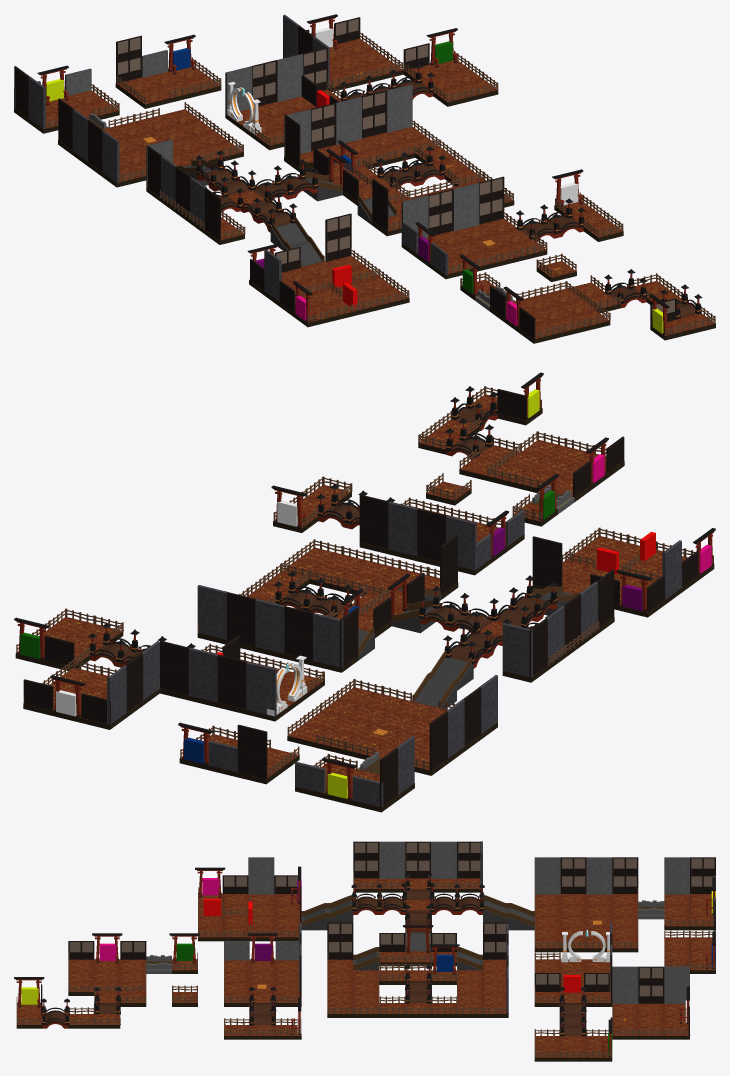
Rendered from Mask_LevelAutomn.gltf.
3 views of the same model, one above another, from view 1: azimuth 30°, elevation 25°; view 2: azimuth 150°, elevation 25°; view 3: azimuth 270°, elevation 25° (orthographic). The views are drawn at different scales.
Parts seen in each view (by area): view 1: portal_level, stairs_hill5, stairs_hill7, wall_base22, wall_base24, wall_base16, wall_base30, wall_base43, wall_wood12, wall_base14, wall_base45, wall_wood49 (+22 smaller); view 2: stairs_hill10, stairs_hill11, portal_level, stairs_hill7, wall_base28, wall_base43, wall_wood12, wall_base41, wall_wood62, wall_wood49, wall_base16, wall_base24 (+26 smaller); view 3: portal_level, stairs_hill11, stairs_hill6, stairs_hill5, stairs_hill10, stairs_hill8, wall_base4, wall_base2, wall_base36, wall_base38, wall_wood13, wall_base32 (+54 smaller).
Part boxes in pixels (x1=…): portal_level: x1=227, y1=81, x2=261, y2=134; stairs_hill5: x1=270, y1=217, x2=309, y2=250; stairs_hill7: x1=303, y1=171, x2=342, y2=201; wall_base22: x1=401, y1=195, x2=428, y2=222; wall_base24: x1=453, y1=183, x2=479, y2=210; wall_base16: x1=386, y1=84, x2=412, y2=112; wall_base30: x1=277, y1=54, x2=303, y2=81; wall_base43: x1=65, y1=68, x2=91, y2=95; wall_wood12: x1=325, y1=213, x2=351, y2=240; wall_base14: x1=336, y1=97, x2=361, y2=124; wall_base45: x1=142, y1=50, x2=167, y2=77; wall_wood49: x1=334, y1=17, x2=360, y2=43; stairs_hill10: x1=429, y1=651, x2=473, y2=690; stairs_hill11: x1=412, y1=673, x2=456, y2=709; portal_level: x1=267, y1=655, x2=307, y2=716; stairs_hill7: x1=391, y1=599, x2=435, y2=633; wall_base28: x1=246, y1=661, x2=276, y2=693; wall_base43: x1=295, y1=761, x2=325, y2=793; wall_wood12: x1=532, y1=536, x2=562, y2=567; wall_base41: x1=352, y1=776, x2=383, y2=807; wall_wood62: x1=237, y1=724, x2=267, y2=755; wall_wood49: x1=23, y1=679, x2=53, y2=710; wall_base16: x1=197, y1=585, x2=227, y2=616; wall_base24: x1=388, y1=501, x2=418, y2=532; portal_level: x1=561, y1=930, x2=609, y2=962; stairs_hill11: x1=508, y1=903, x2=534, y2=930; stairs_hill6: x1=301, y1=903, x2=327, y2=930; stairs_hill5: x1=327, y1=895, x2=353, y2=922; stairs_hill10: x1=483, y1=895, x2=508, y2=922; stairs_hill8: x1=353, y1=947, x2=379, y2=970; wall_base4: x1=379, y1=841, x2=405, y2=861; wall_base2: x1=248, y1=857, x2=274, y2=876; wall_base36: x1=534, y1=857, x2=560, y2=876; wall_base38: x1=586, y1=857, x2=612, y2=876; wall_wood13: x1=327, y1=922, x2=353, y2=941; wall_base32: x1=612, y1=966, x2=638, y2=985.
Bounding box in the file's own units: 90.83 × 14.49 × 163.
20 materials, 12 textured.
